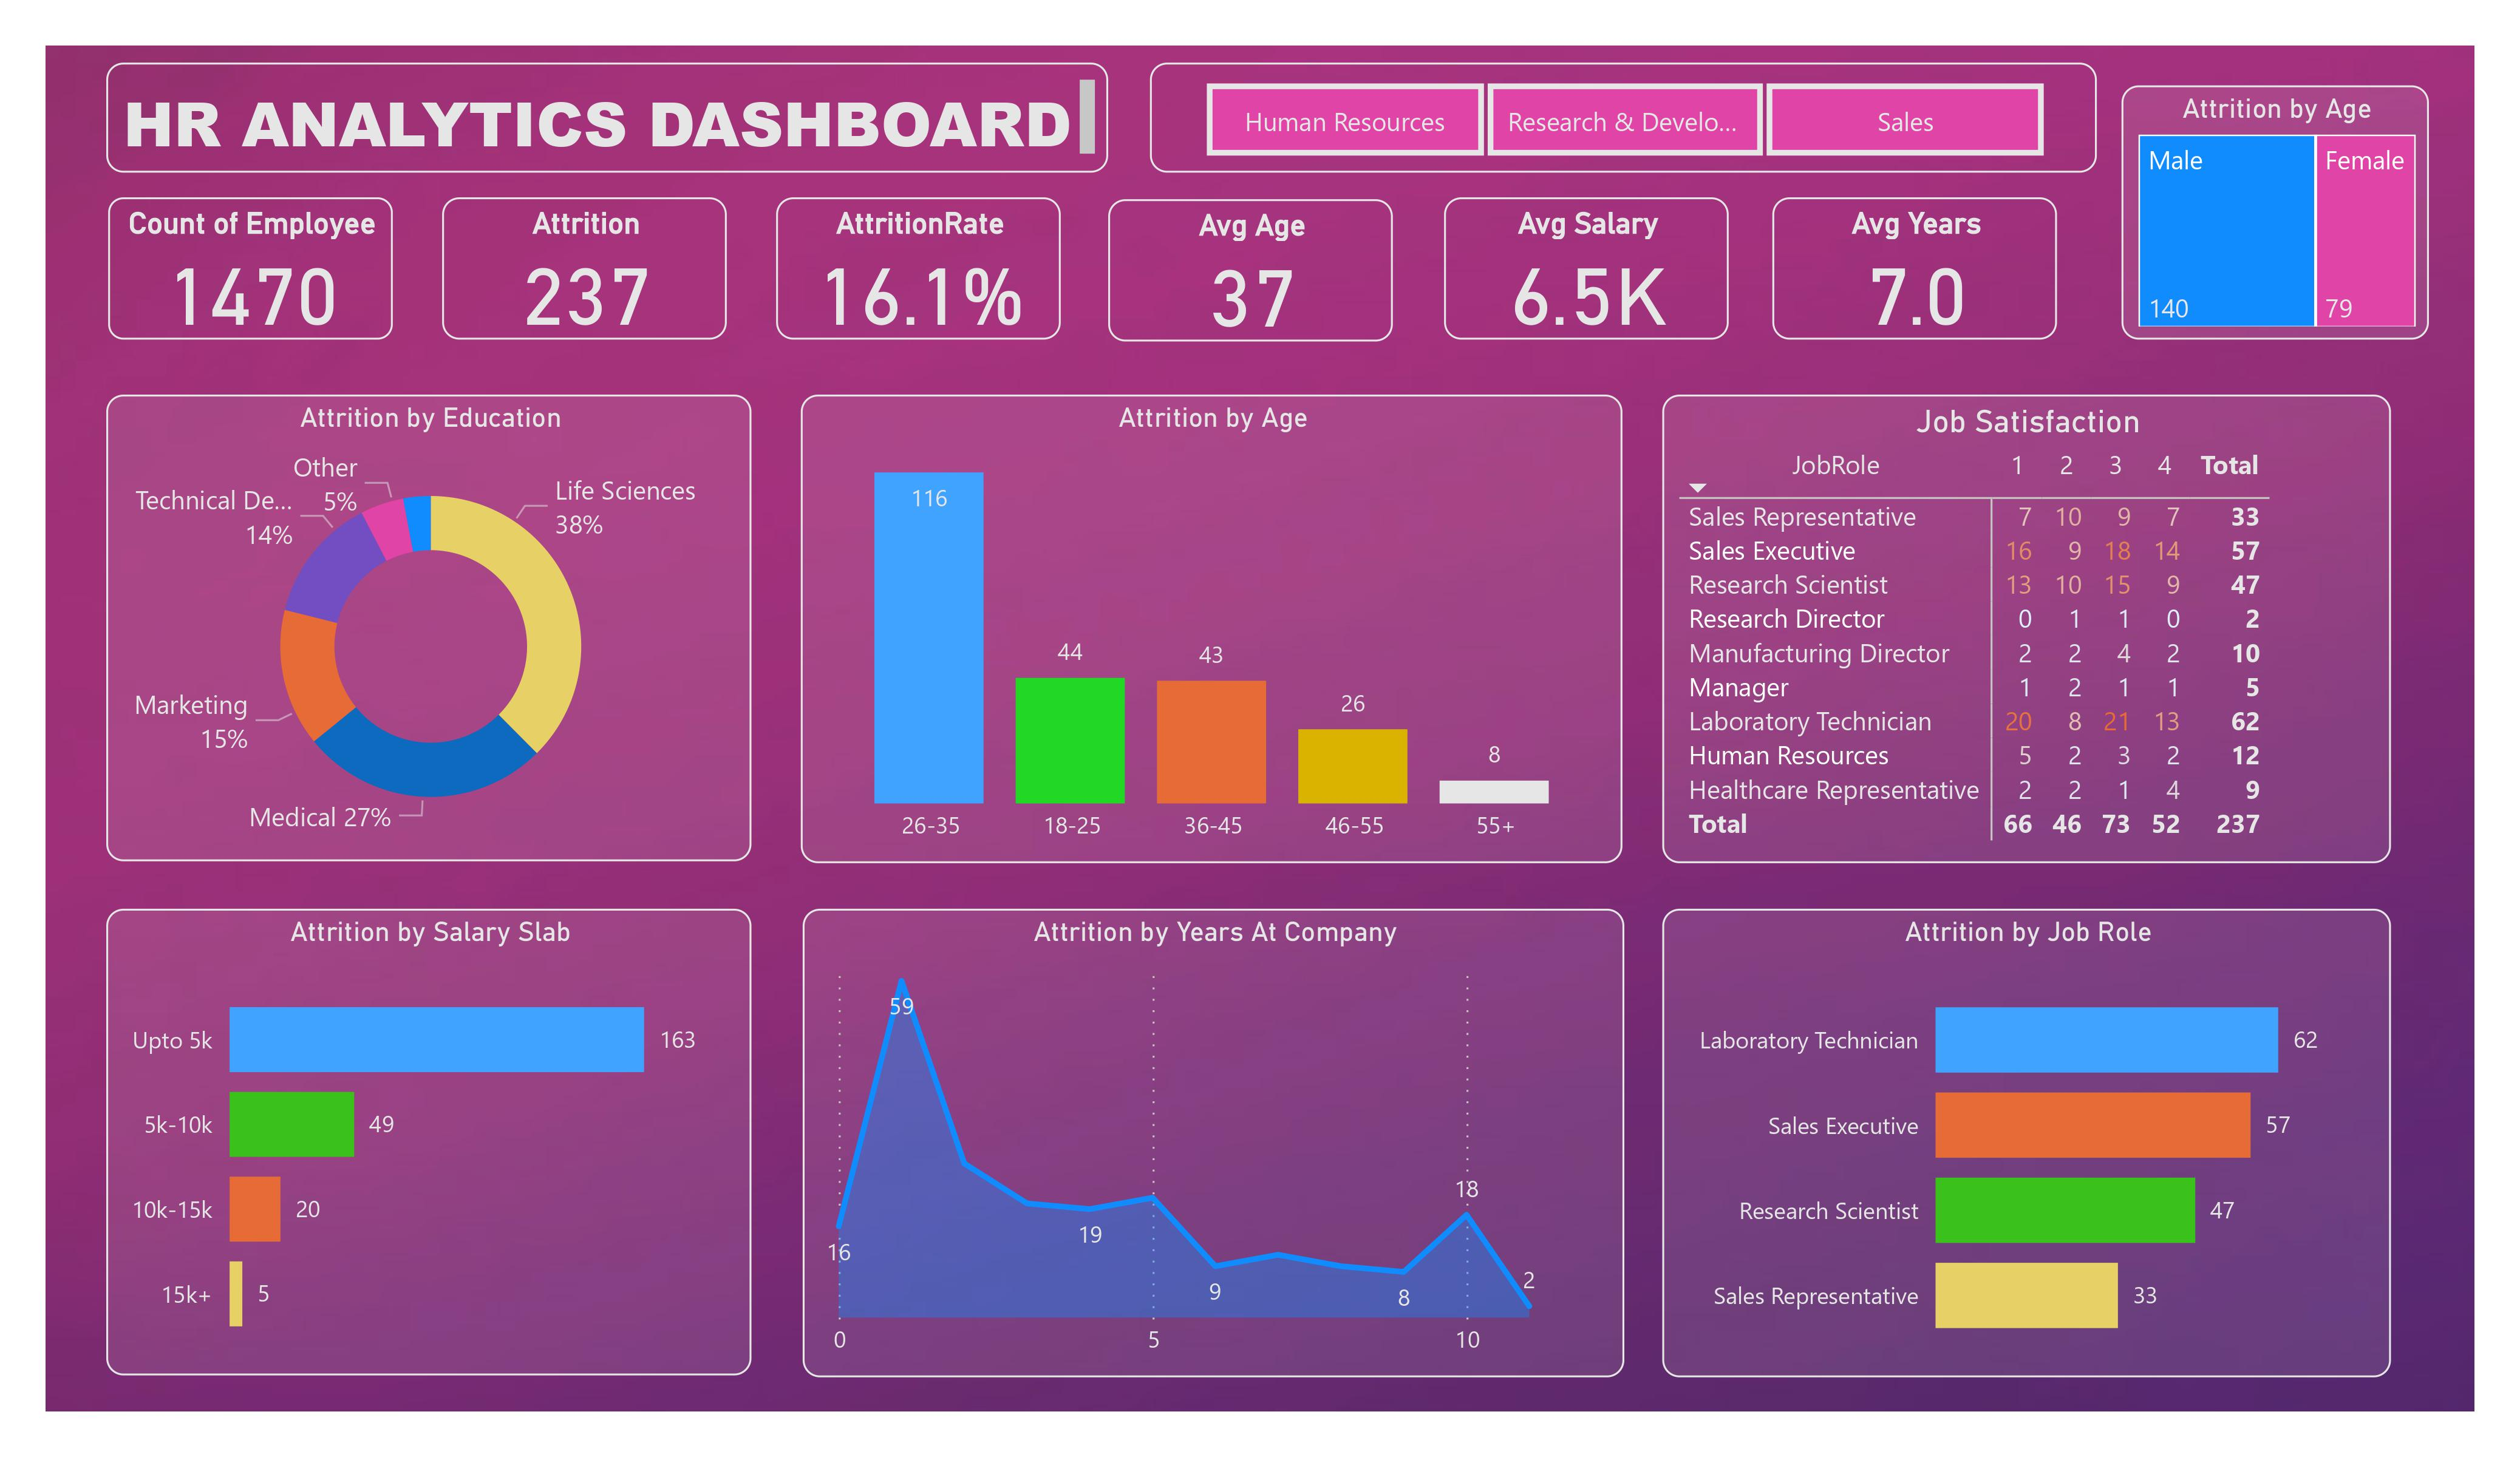

The page's visual inventory and layout, read from the dashboard file:
{"tool":"powerbi","page":{"name":"Page 1","canvas":[1280,720],"ordinal":0},"visuals":[{"type":"card","title":"Count of Employee","fields":{"Values":["CountNonNull(HR_Analytics.EmpID)"]},"box":[32.9,80.4,150,75],"z":0},{"type":"card","title":"Attrition","fields":{"Values":["Sum(HR_Analytics.AttritionCount)"]},"box":[209,80,150,75],"z":1000},{"type":"card","title":"AttritionRate","fields":{"Values":["HR_Analytics.// AttritionRate"]},"box":[385,80,150,75],"z":2000},{"type":"card","title":"Avg Age","fields":{"Values":["Avg(HR_Analytics.Age)"]},"box":[560,81,150,75],"z":3000},{"type":"card","title":"Avg Salary","fields":{"Values":["Avg(HR_Analytics.MonthlyIncome)"]},"box":[737,80,150,75],"z":4000},{"type":"card","title":"Avg Years","fields":{"Values":["Avg(HR_Analytics.YearsAtCompany)"]},"box":[910,80,150,75],"z":5000},{"type":"donutChart","title":"Attrition by Education","fields":{"Category":["HR_Analytics.EducationField"],"Y":["Sum(HR_Analytics.AttritionCount)"]},"box":[32.2,183.7,339.9,246.5],"z":6000},{"type":"columnChart","title":"Attrition by Age","fields":{"Category":["HR_Analytics.AgeGroup"],"Y":["Sum(HR_Analytics.AttritionCount)"]},"box":[398,184,433,247],"z":7000},{"type":"pivotTable","title":"Job Satisfaction","fields":{"Rows":["HR_Analytics.JobRole"],"Columns":["HR_Analytics.JobSatisfaction"],"Values":["Sum(HR_Analytics.AttritionCount)"]},"box":[852,184,384,247],"z":8000},{"type":"barChart","title":"Attrition by Salary Slab","fields":{"Category":["HR_Analytics.SalarySlab"],"Y":["Sum(HR_Analytics.AttritionCount)"]},"box":[32.2,454.7,339.9,246.5],"z":9000},{"type":"barChart","title":"Attrition by Job Role","fields":{"Category":["HR_Analytics.JobRole"],"Y":["Sum(HR_Analytics.AttritionCount)"]},"box":[852,455,384,247],"z":10000},{"type":"areaChart","title":"Attrition by Years At Company","fields":{"Category":["HR_Analytics.YearsAtCompany"],"Y":["Sum(HR_Analytics.AttritionCount)"]},"box":[399,455,433,247],"z":11000},{"type":"treemap","title":"Attrition by Age","fields":{"Group":["HR_Analytics.Gender"],"Values":["Sum(HR_Analytics.AttritionCount)"]},"box":[1094,21,162,134],"z":12000},{"type":"slicer","fields":{"Values":["HR_Analytics.Department"]},"box":[581.8,9.2,499.1,58.2],"z":13000},{"type":"textbox","box":[32.2,9.2,528.2,58.2],"z":14000}]}

Visuals, with their boxes in screenshot pixels (x1, y1, x2, y2):
"Count of Employee" card: 108:198:393:341
"Attrition" card: 442:197:727:339
"AttritionRate" card: 776:197:1061:339
"Avg Age" card: 1108:199:1393:341
"Avg Salary" card: 1444:197:1729:339
"Avg Years" card: 1773:197:2057:339
"Attrition by Education" donutChart: 107:394:752:861
"Attrition by Age" columnChart: 801:395:1623:863
"Job Satisfaction" pivotTable: 1663:395:2391:863
"Attrition by Salary Slab" barChart: 107:908:752:1376
"Attrition by Job Role" barChart: 1663:909:2391:1377
"Attrition by Years At Company" areaChart: 803:909:1624:1377
"Attrition by Age" treemap: 2122:86:2429:339
slicer - HR_Analytics.Department: 1149:63:2097:174
textbox: 107:63:1109:174
